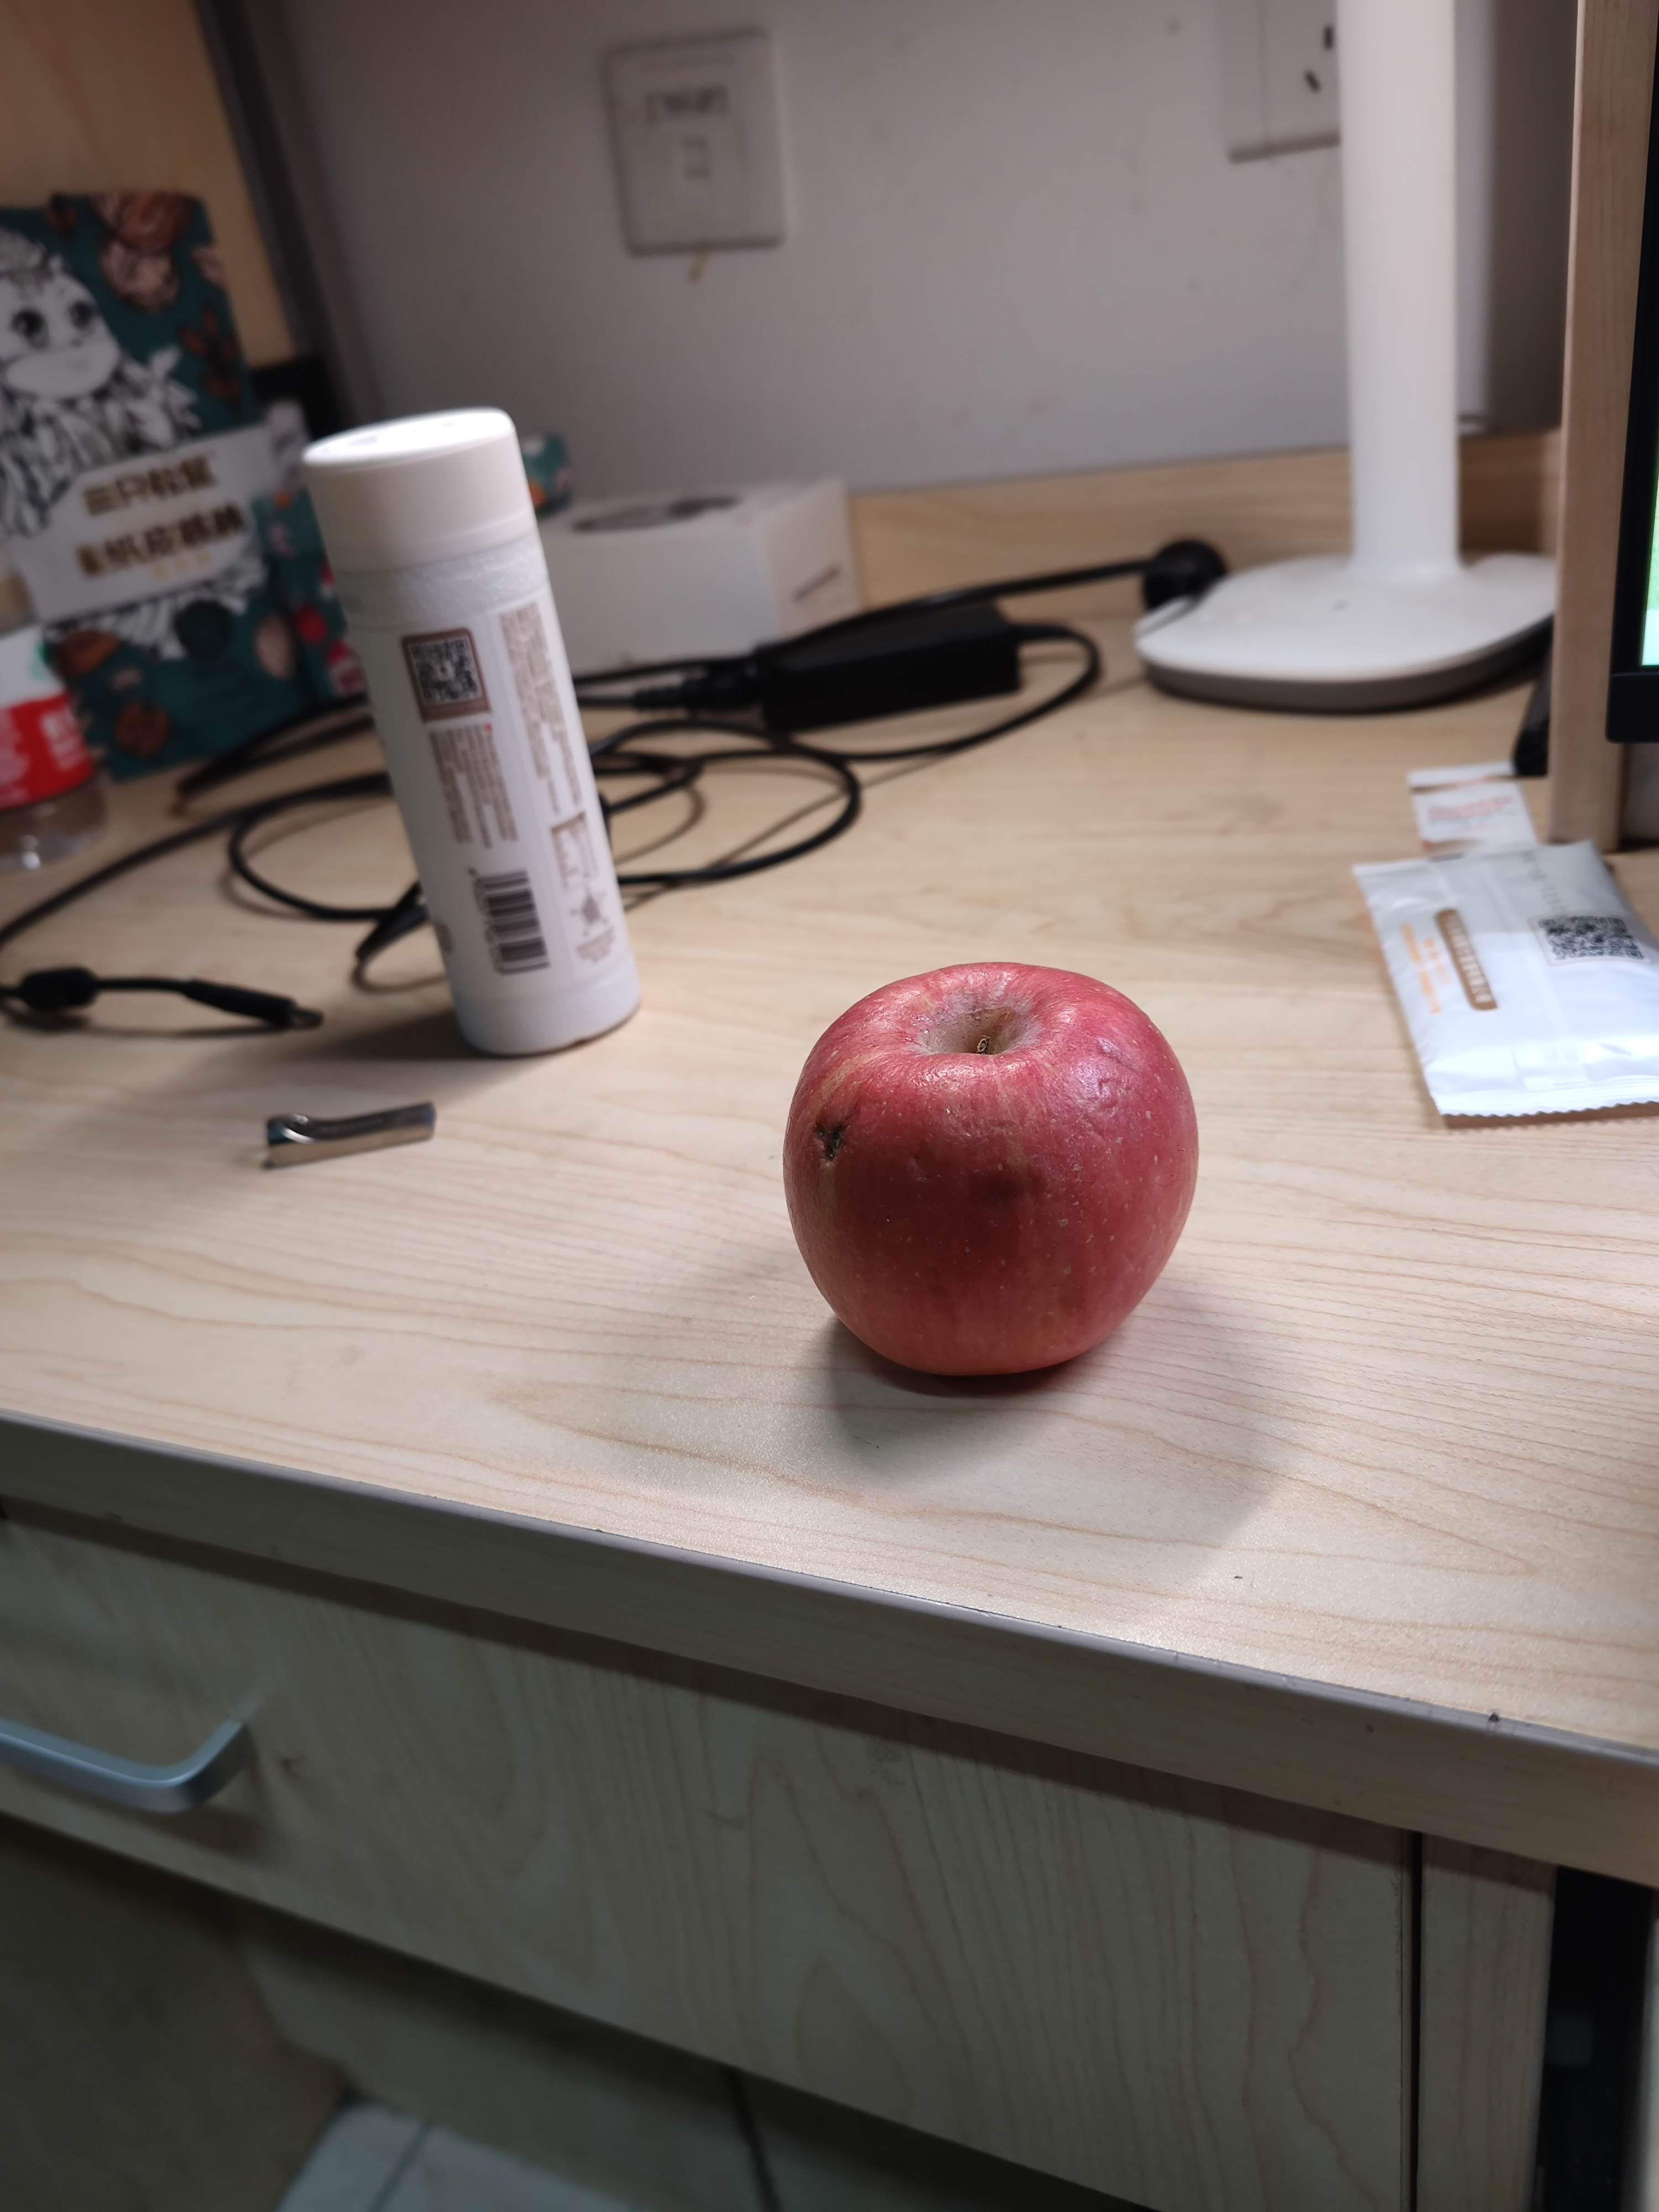apple: (772, 956, 1209, 1381)
